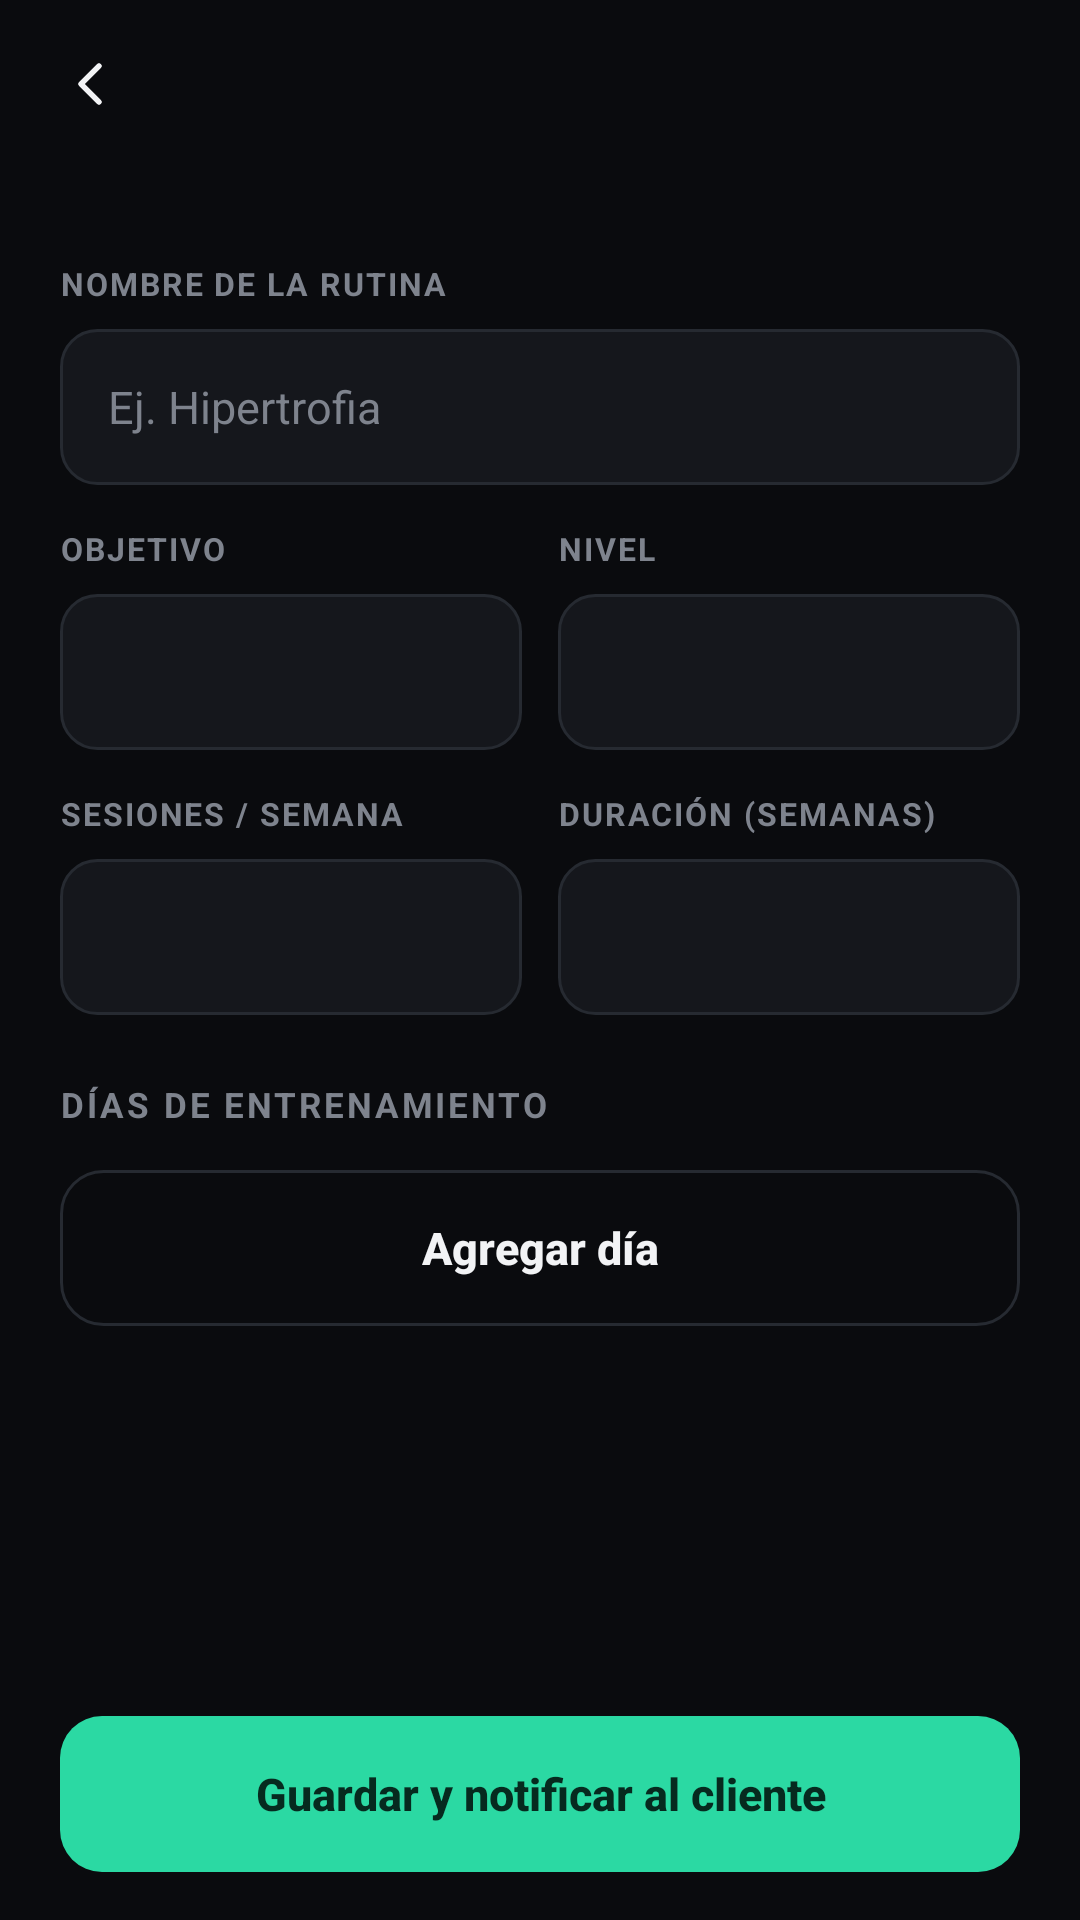

Locate icon controls on the screen. Image size 1080w x 1920h, boxes as region(x1, y1, x2, y2).
Atrás: region(78, 63, 102, 105)
